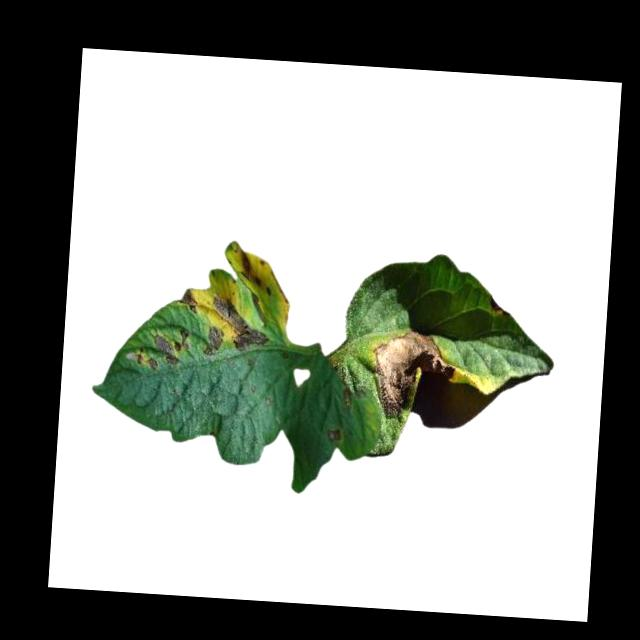Early_blight: (368, 329, 458, 422), (210, 296, 271, 352), (133, 323, 189, 372), (235, 249, 276, 297), (200, 321, 224, 357), (178, 287, 200, 312), (324, 427, 345, 442)
